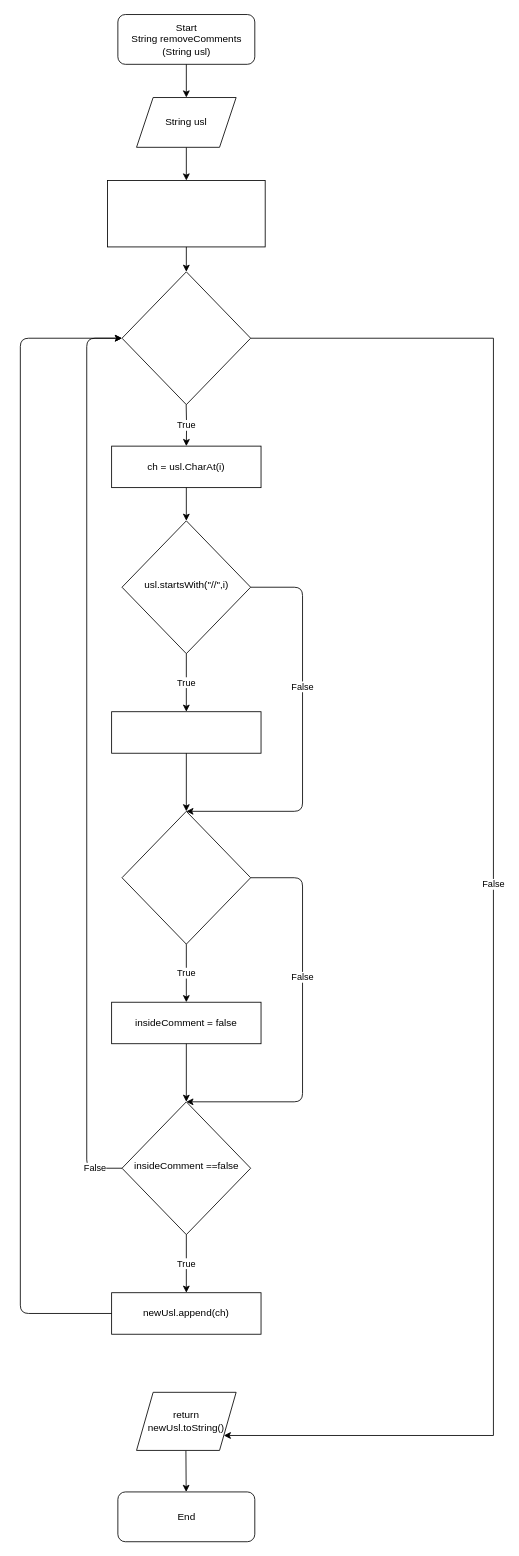
The diagram is 519 pixels wide and 1556 high, and some of its shapes have lost their labels. Each missing label, with the box of its shape:
ch == '\n' && insideComment: (121, 810, 251, 944)
i = 0; i < usl.length(); i++: (121, 271, 251, 405)
insideComment = false StringBuilder newUSL = new StringBuilder(usl): (107, 180, 265, 247)
insideComment = true: (111, 711, 261, 753)
